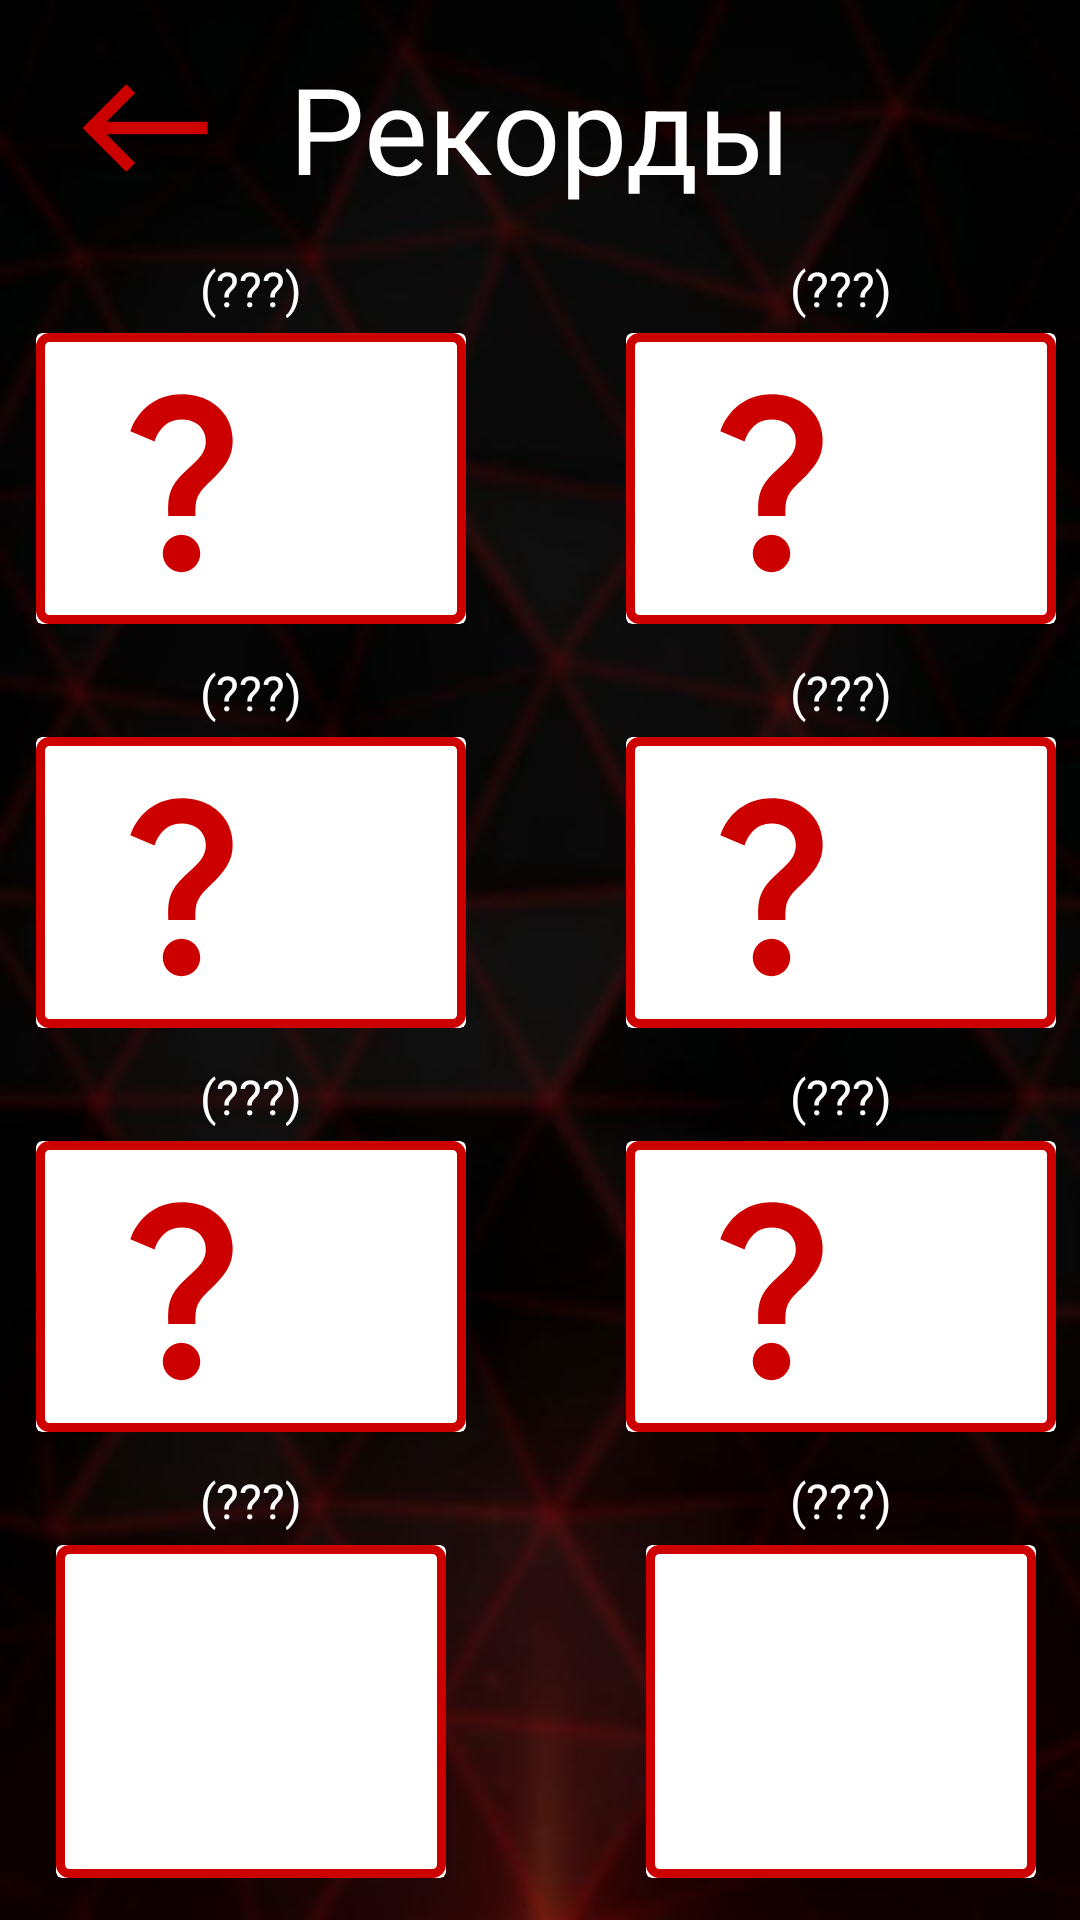

Where to tap for icons on this 1080px x 1920px app screen, as [x,y]:
question: [181,483], [771,483], [181,887], [771,887], [181,1291], [771,1291]
west: [145,128]
